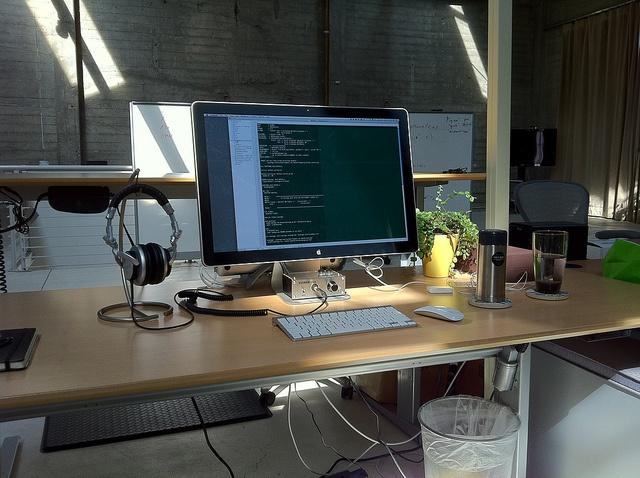AIO PC-Monitor-TV: (189, 98, 418, 265)
Meja: (0, 249, 639, 420)
